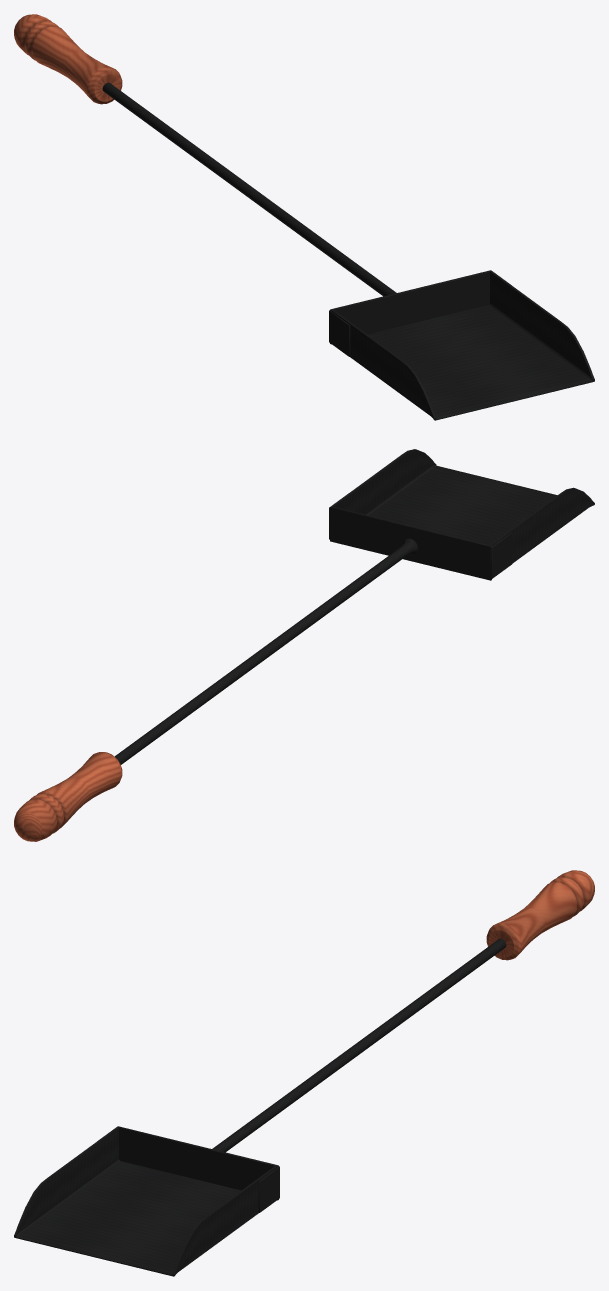
Rendered from pala.glb.
3 views of the same model, one above another, from view 1: azimuth 30°, elevation 25°; view 2: azimuth 150°, elevation 25°; view 3: azimuth 330°, elevation 25° (orthographic).
Parts seen in each view (by area): view 1: Hoja_Pala, Mango_Madera, Varilla_Hierro; view 2: Hoja_Pala, Mango_Madera, Varilla_Hierro; view 3: Hoja_Pala, Mango_Madera, Varilla_Hierro.
Part boxes in pixels (x1,y1,x2,y2): Hoja_Pala: (329, 270, 594, 420); Mango_Madera: (14, 14, 122, 104); Varilla_Hierro: (102, 82, 396, 296); Hoja_Pala: (329, 449, 594, 580); Mango_Madera: (14, 752, 122, 841); Varilla_Hierro: (114, 538, 417, 764); Hoja_Pala: (14, 1126, 279, 1276); Mango_Madera: (486, 870, 594, 960); Varilla_Hierro: (212, 938, 506, 1152).
Bounding box in the file's own units: 0.1466 × 0.0334 × 0.762.
Materials: 2 (2 with a texture image).
